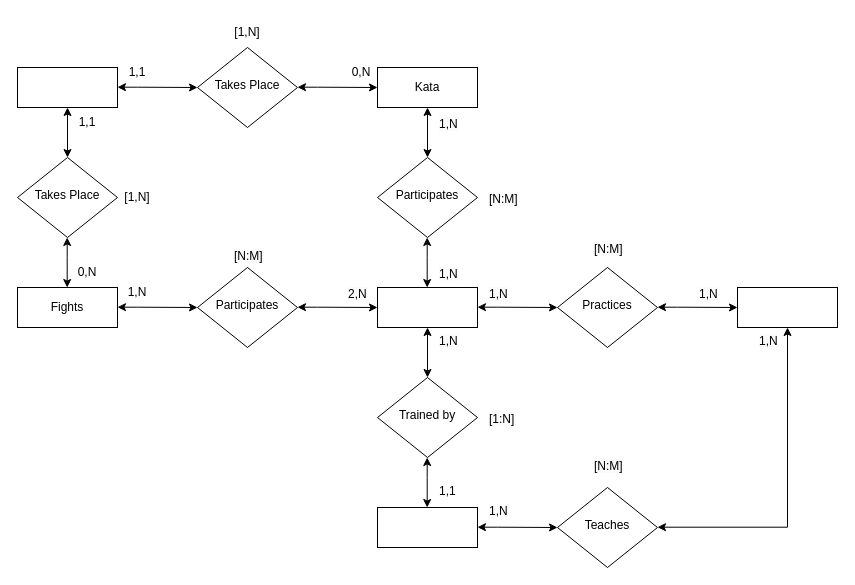
The diagram is 855 pixels wide and 585 high, and some of its shapes have lost their labels. The shapes that lost their labels are listed below. From the top down, each one's centre as x and y in pixels, then its label:
pixel 67 87: Tournament
pixel 427 307: Participants
pixel 787 307: Styles
pixel 427 527: Masters
